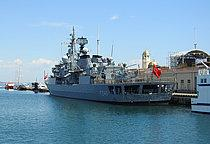MIL_Ship: (43, 26, 176, 106)
